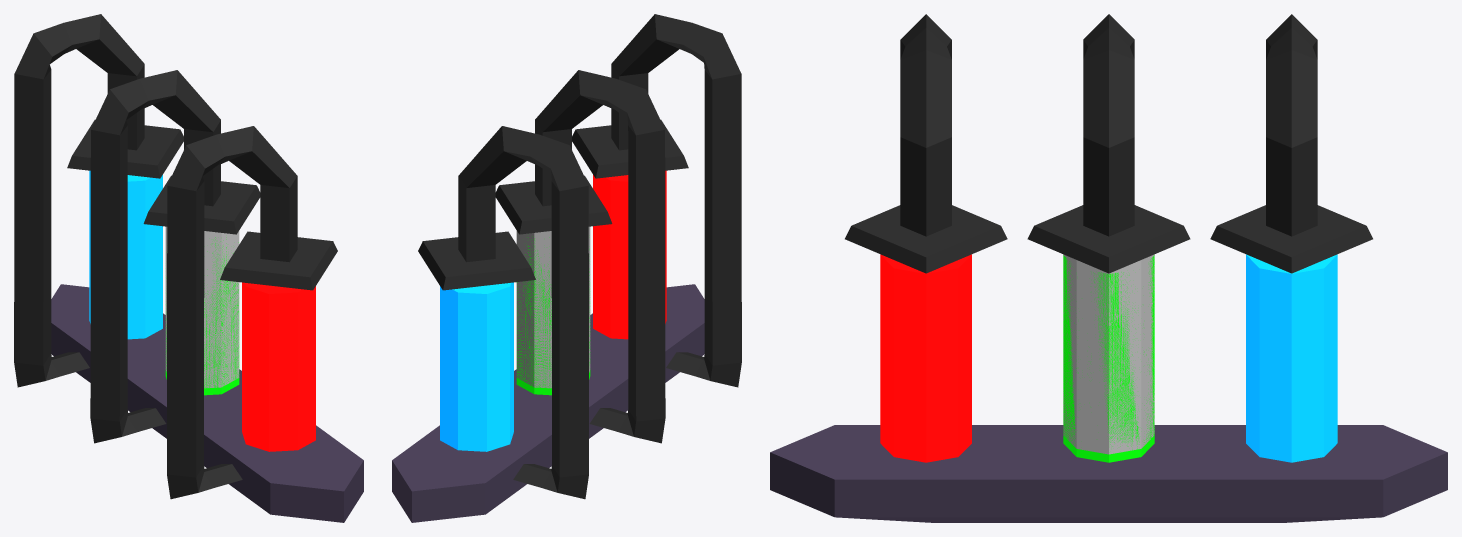
Rendered from controlpanel.glb.
The picture shows the model from 3 angles, left to right: view 1: azimuth 30°, elevation 25°; view 2: azimuth 150°, elevation 25°; view 3: azimuth 270°, elevation 25°; orthographic projection. The views are drawn at different scales.
Visible parts, largest first — view 1: Cube.001, Cube.003, Cube.002, Plane, Cylinder.001, Cylinder.003, Cylinder, Cylinder.002, Cube; view 2: Cube.003, Cube.001, Cube.002, Plane, Cylinder.003, Cylinder.001, Cylinder, Cylinder.002, Cube; view 3: Plane, Cylinder.001, Cylinder.003, Cube.001, Cube.003, Cylinder, Cube.002, Cylinder.002, Cube.
Part boxes in pixels (x1,y1,x2,y2): Cube.001: (167,126,337,499); Cube.003: (14,14,183,387); Cube.002: (90,70,254,443); Plane: (51,284,363,522); Cylinder.001: (242,282,315,451); Cylinder.003: (89,170,162,339); Cylinder: (165,226,239,388); Cylinder.002: (165,237,239,395); Cube: (143,175,260,234); Cube.003: (418,126,588,499); Cube.001: (572,14,741,387); Cube.002: (500,70,665,443); Plane: (392,284,704,522); Cylinder.003: (440,282,513,451); Cylinder.001: (593,170,666,339); Cylinder: (516,226,590,388); Cylinder.002: (516,236,590,395); Cube: (495,175,612,234); Plane: (770,425,1447,522); Cylinder.001: (880,254,971,462); Cylinder.003: (1246,254,1337,462); Cube.001: (845,14,1007,273); Cube.003: (1210,14,1372,273); Cylinder: (1063,254,1154,454); Cube.002: (1036,14,1181,256); Cylinder.002: (1063,255,1154,462); Cube: (1027,205,1190,273).
Size of the model in its own units: 5.17 by 10.66 by 14.83.
